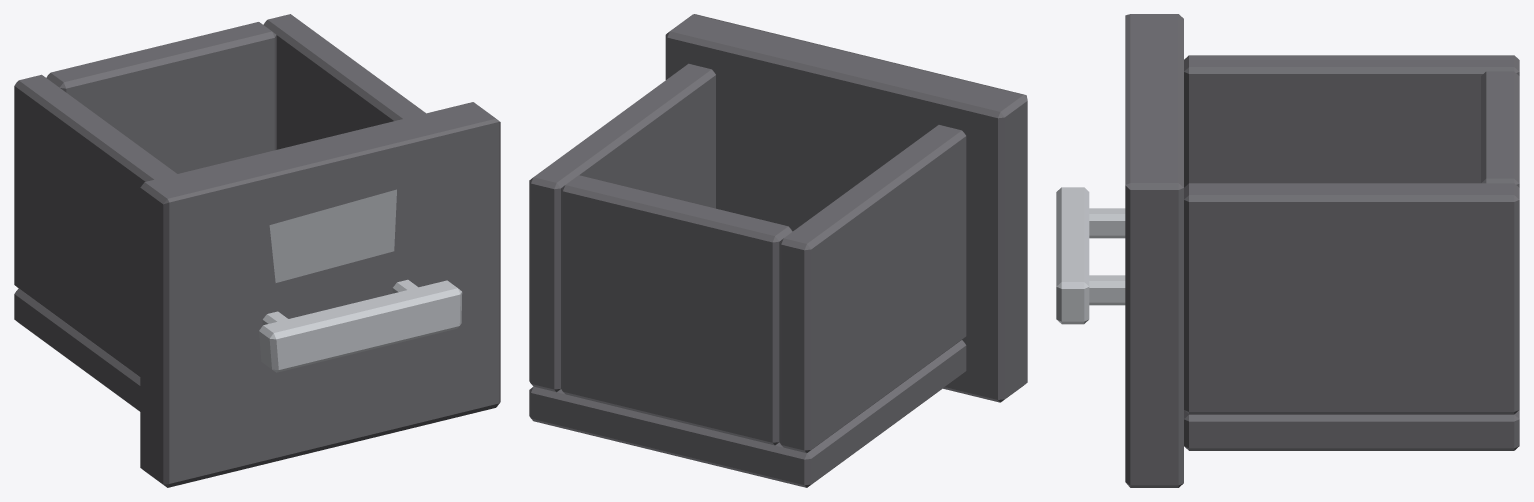
File: Shelving_4_box_1.fbx
The picture shows the model from 3 angles, left to right: view 1: azimuth 30°, elevation 25°; view 2: azimuth 150°, elevation 25°; view 3: azimuth 270°, elevation 25°; orthographic projection. The views are drawn at different scales.
Visible parts, largest first — view 1: Shelving_4_box_1; view 2: Shelving_4_box_1; view 3: Shelving_4_box_1.
Boxes of the visible parts, x1=… form: Shelving_4_box_1: x1=14, y1=14, x2=500, y2=487; Shelving_4_box_1: x1=529, y1=14, x2=1027, y2=487; Shelving_4_box_1: x1=1056, y1=14, x2=1519, y2=487.
Bounding box in the file's own units: 0.3336 × 0.2733 × 0.3762.
